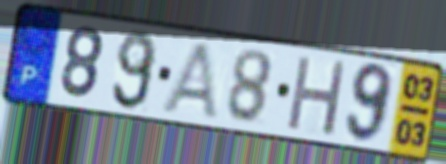8: (224, 48, 276, 126), (58, 24, 105, 101)
9: (345, 60, 397, 147), (109, 27, 160, 113)
A: (158, 41, 222, 123)
H: (284, 52, 350, 139)
